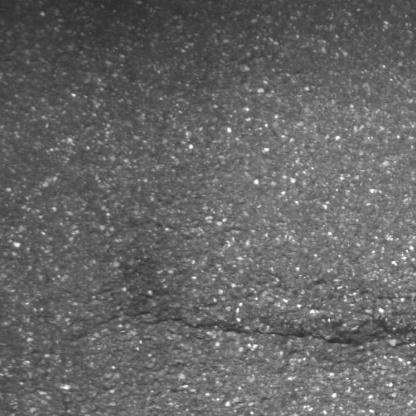Cracks: (137, 312, 416, 349)
